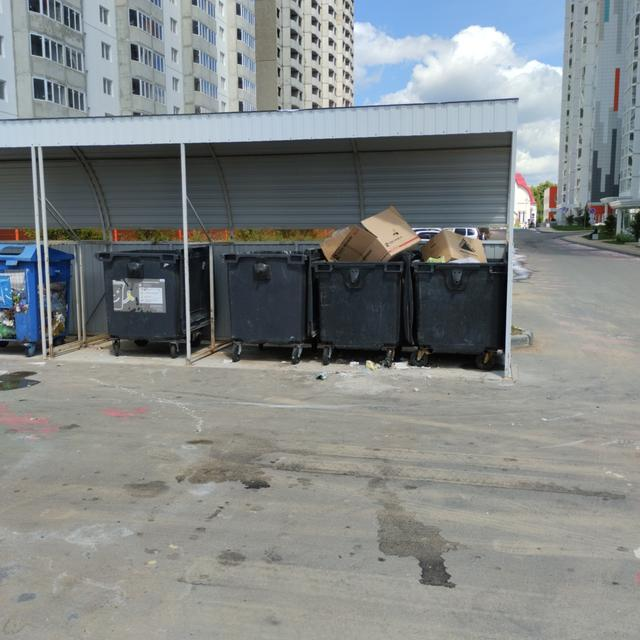Trash_Can_Closed: (1, 242, 75, 340)
Trash_Can_Empty: (95, 247, 209, 340), (223, 250, 310, 344)
Trash_Can_Full: (313, 206, 404, 351), (412, 230, 507, 355)
